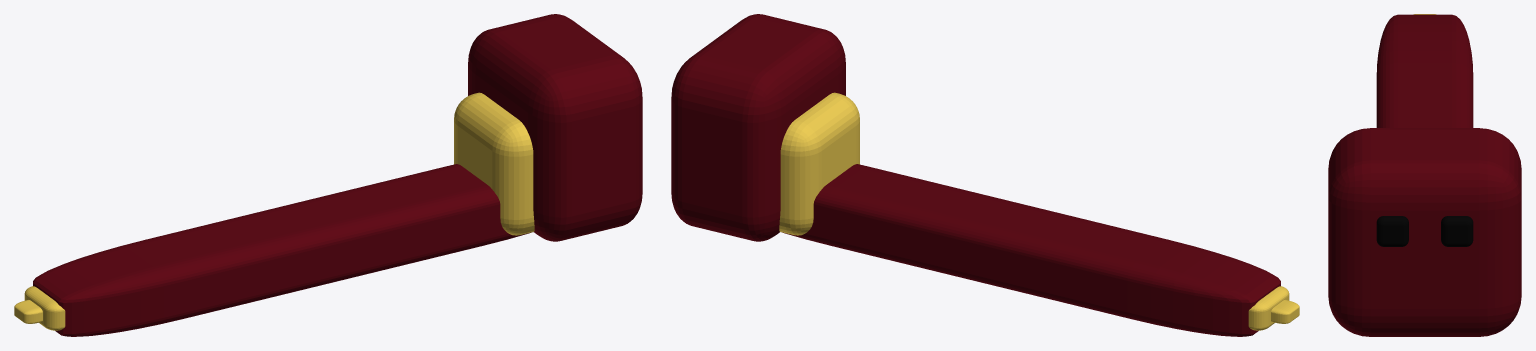
The model's file is Arcle.glb.
3 renders of one model, left to right at view 1: azimuth 30°, elevation 25°; view 2: azimuth 150°, elevation 25°; view 3: azimuth 270°, elevation 25°, orthographic. The views are drawn at different scales.
Parts seen in each view (by area): view 1: Cube, Cube.001, Cube.002, Cube.005, Cube.006; view 2: Cube, Cube.001, Cube.002, Cube.005, Cube.006; view 3: Cube.001, Cube, Cube.003, Cube.004.
Boxes of the visible parts, box(x1,y1,x2,y2) form: Cube: box(33, 164, 531, 336); Cube.001: box(468, 14, 642, 241); Cube.002: box(454, 92, 534, 235); Cube.005: box(24, 286, 65, 330); Cube.006: box(14, 300, 42, 323); Cube: box(782, 164, 1280, 336); Cube.001: box(671, 14, 845, 241); Cube.002: box(779, 92, 859, 235); Cube.005: box(1248, 286, 1289, 330); Cube.006: box(1271, 300, 1299, 323); Cube.001: box(1328, 128, 1521, 336); Cube: box(1376, 14, 1473, 127); Cube.003: box(1441, 216, 1473, 246); Cube.004: box(1376, 216, 1408, 246).
Bounding box in the file's own units: 1.12 × 0.3 × 0.3.
